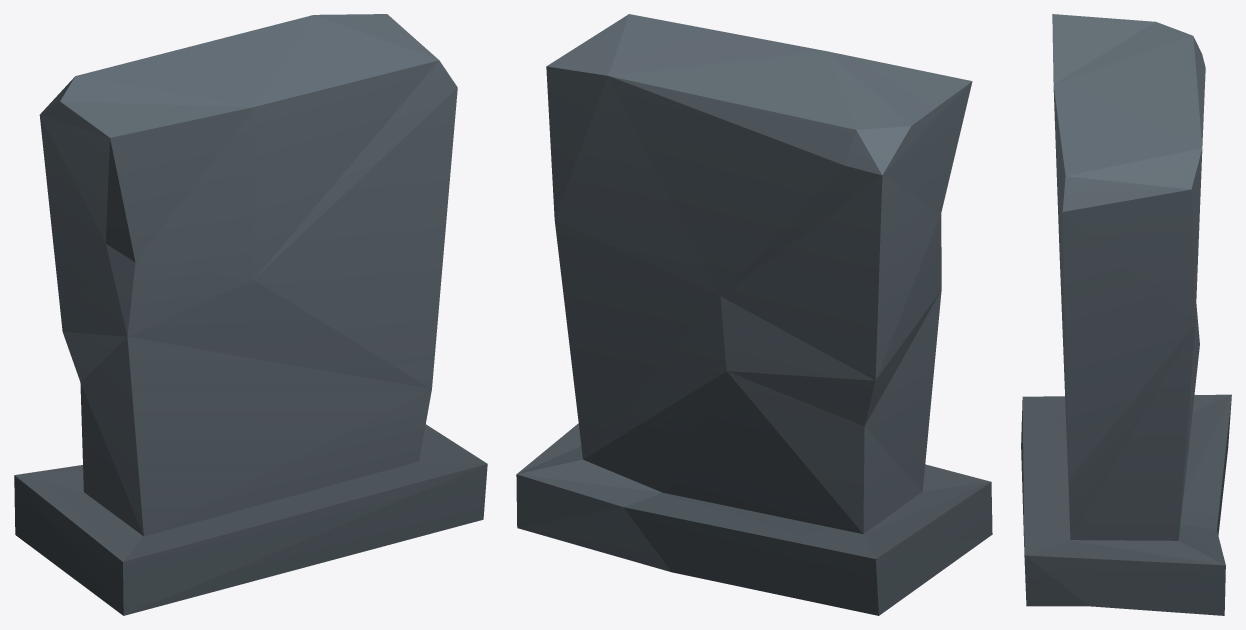
Rendered from Graveyard_02.fbx.
3 renders of one model, left to right at view 1: azimuth 30°, elevation 25°; view 2: azimuth 150°, elevation 25°; view 3: azimuth 270°, elevation 25°, orthographic. The views are drawn at different scales.
Parts seen in each view (by area): view 1: Graveyard_02; view 2: Graveyard_02; view 3: Graveyard_02.
Boxes of the visible parts, <box> form: Graveyard_02: <box>14,14,487,615</box>; Graveyard_02: <box>516,14,992,615</box>; Graveyard_02: <box>1021,14,1231,615</box>.
Bounding box in the file's own units: 50.59 × 63.84 × 27.02.
